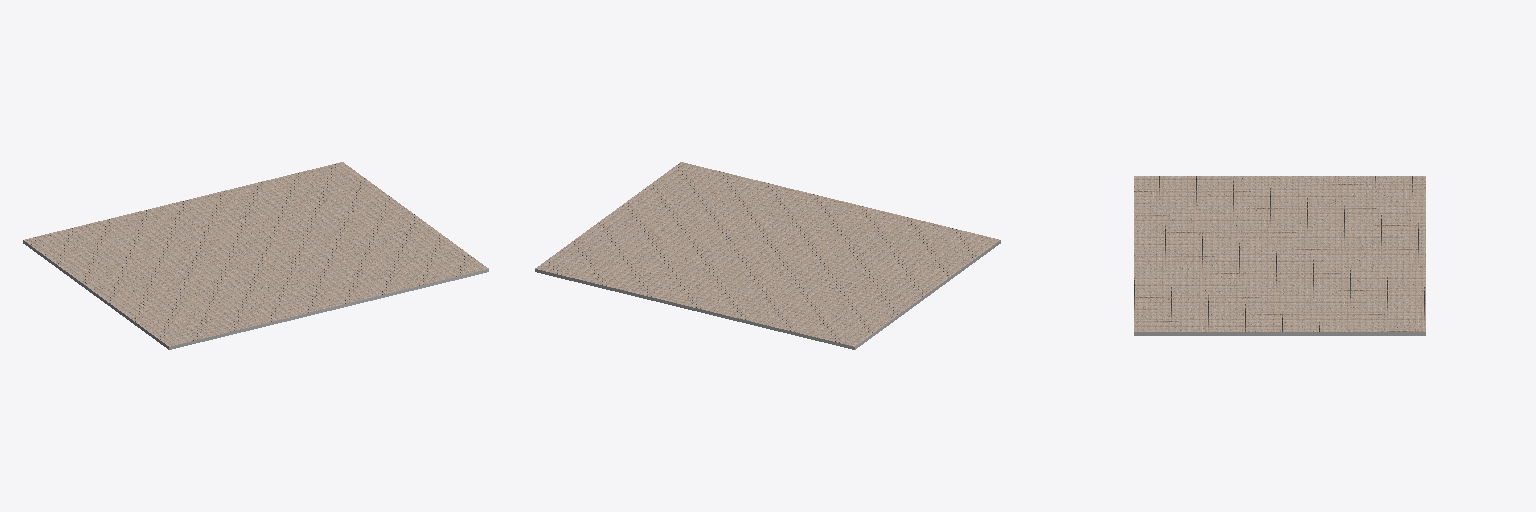
3 renders of one model, left to right at view 1: azimuth 30°, elevation 25°; view 2: azimuth 150°, elevation 25°; view 3: azimuth 270°, elevation 25°, orthographic.
Parts seen in each view (by area): view 1: piso1:pCube15; view 2: piso1:pCube15; view 3: piso1:pCube15.
Boxes of the visible parts, box(x1,y1,x2,y2) form: piso1:pCube15: box(23, 162, 488, 349); piso1:pCube15: box(535, 162, 1000, 349); piso1:pCube15: box(1134, 176, 1425, 335).
Bounding box in the file's own units: 24.41 × 0.2369 × 19.31.
Materials: 3 (2 with a texture image).